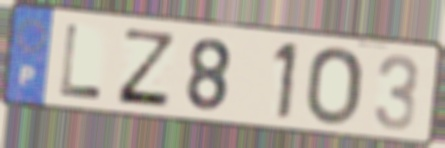1: (271, 40, 303, 123)
3: (373, 52, 421, 131)
8: (186, 36, 233, 112)
L: (57, 22, 105, 102)
O: (304, 45, 366, 128)
Z: (114, 26, 178, 110)
